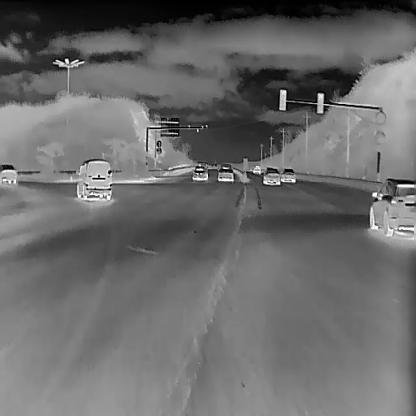car: (370, 176, 416, 238), (76, 159, 112, 200), (0, 164, 15, 186), (217, 162, 233, 182), (263, 166, 280, 184), (192, 164, 208, 180), (280, 167, 295, 182), (252, 164, 260, 173)
